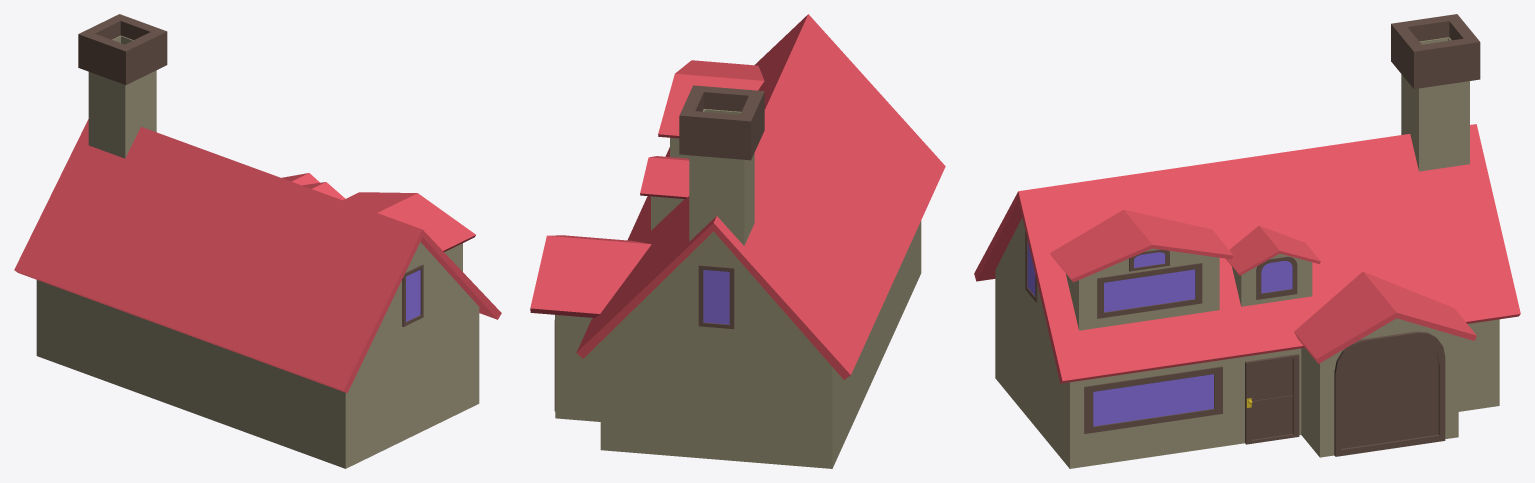
The model's file is CALLE3_CASA1_029.fbx.
3 renders of one model, left to right at view 1: azimuth 30°, elevation 25°; view 2: azimuth 150°, elevation 25°; view 3: azimuth 270°, elevation 25°, orthographic. The views are drawn at different scales.
Visible parts, largest first — view 1: CASA1.029; view 2: CASA1.029; view 3: CASA1.029.
Boxes of the visible parts, <box> form: CASA1.029: <box>14,14,501,468</box>; CASA1.029: <box>530,14,945,468</box>; CASA1.029: <box>974,14,1520,468</box>.
Bounding box in the file's own units: 830 × 734 × 1097.
